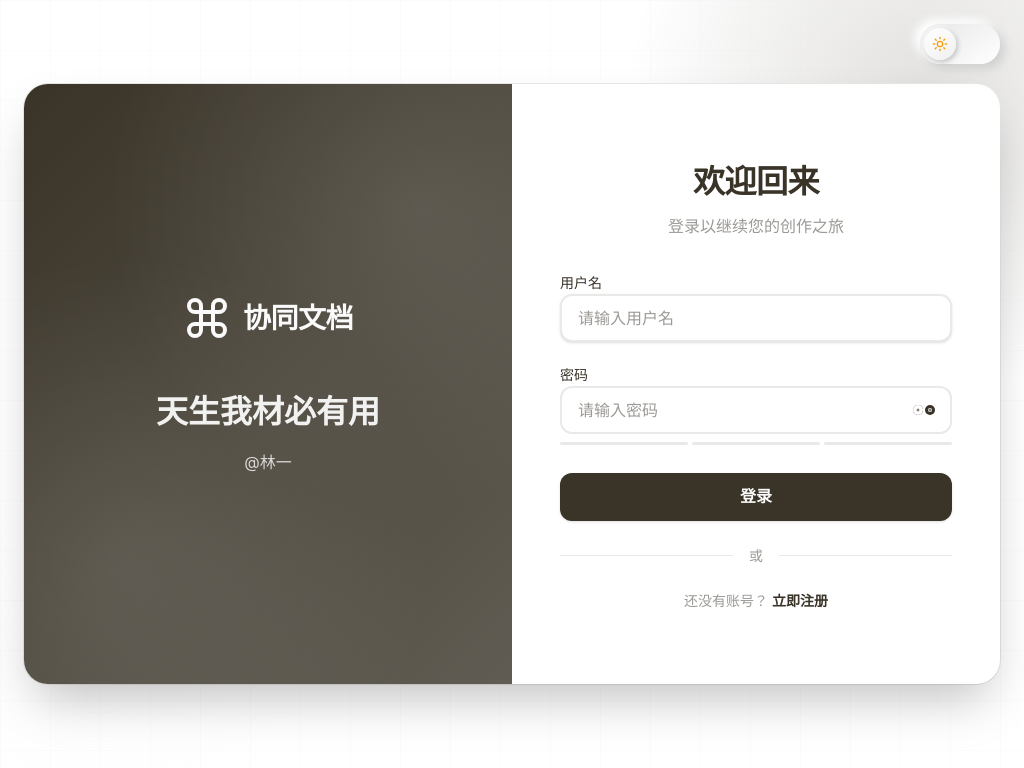
it: Login Page › UI-006: should switch back to login form after register
Click the button "立即注册" at (800, 600), box left=772, top=590, right=828, bottom=610
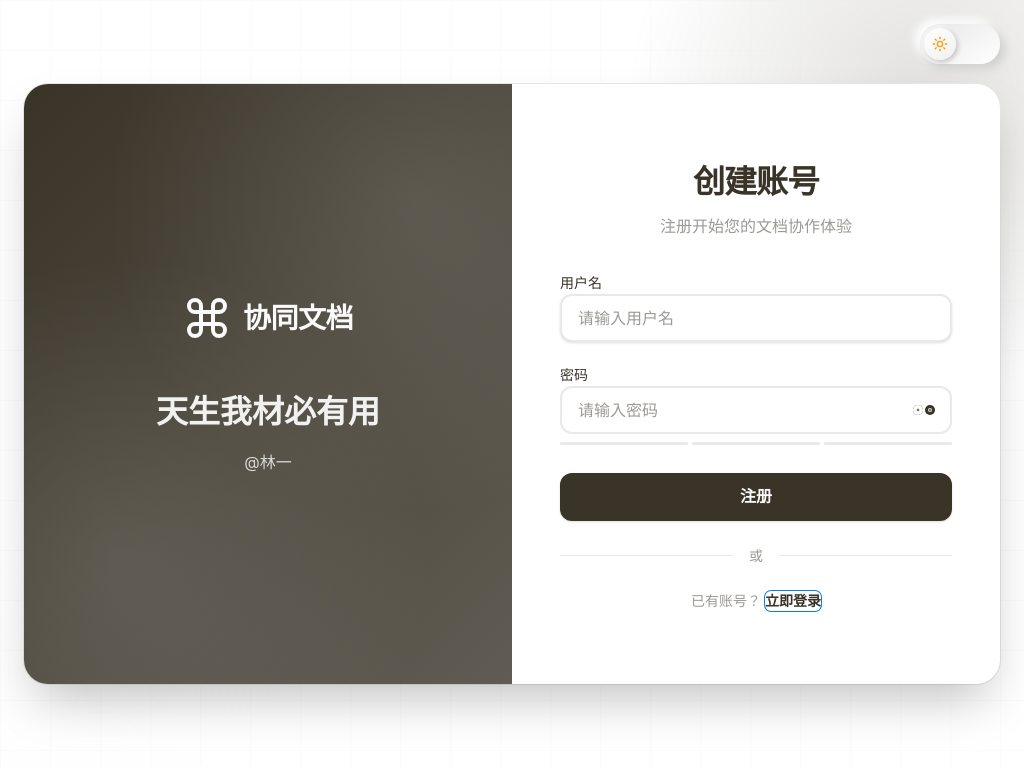
Expected: the heading "创建账号" is shown, left=693, top=162, right=819, bottom=200
Click the button "立即登录" at (793, 600), box left=765, top=590, right=821, bottom=610
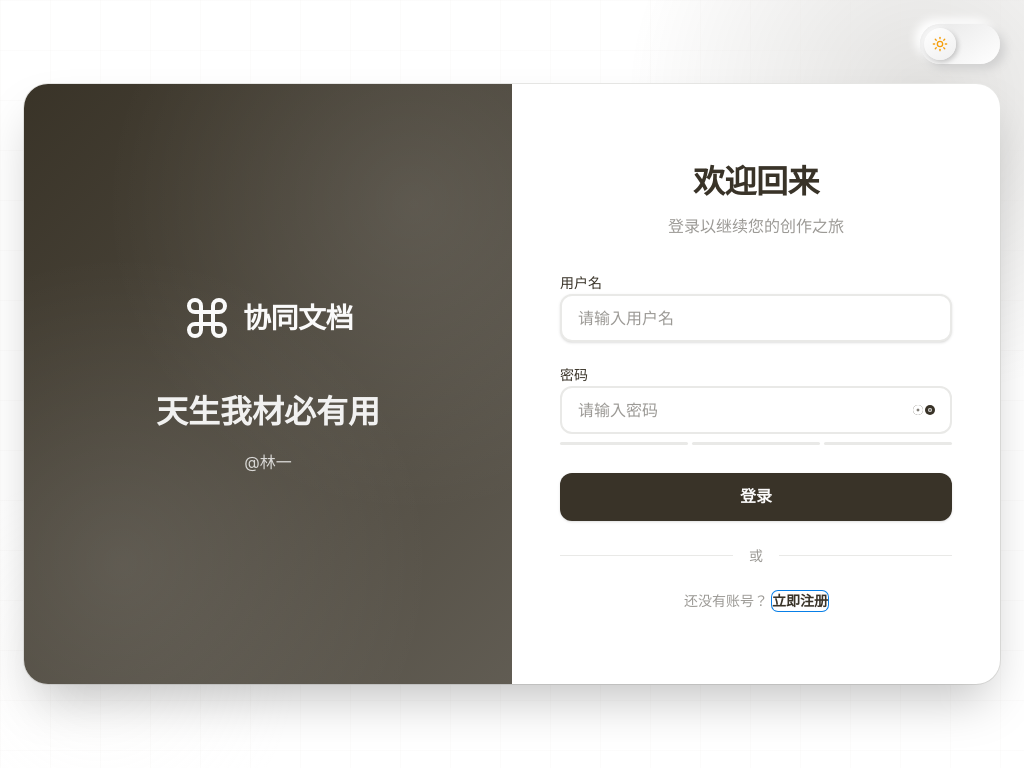
Expected: the heading "欢迎回来" is shown, left=693, top=162, right=819, bottom=200
